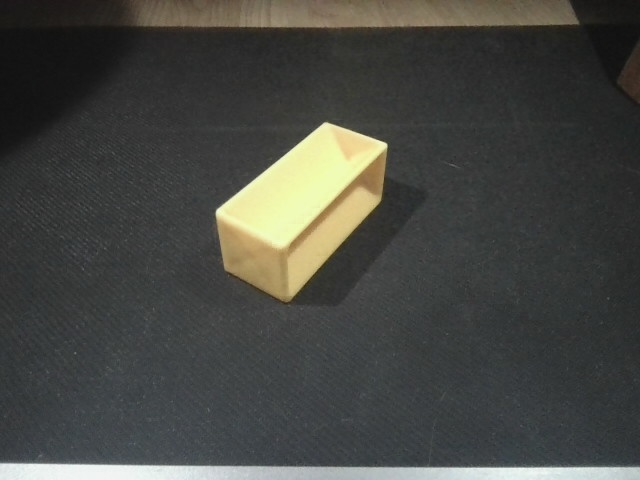YellowSample: (213, 120, 398, 308)
